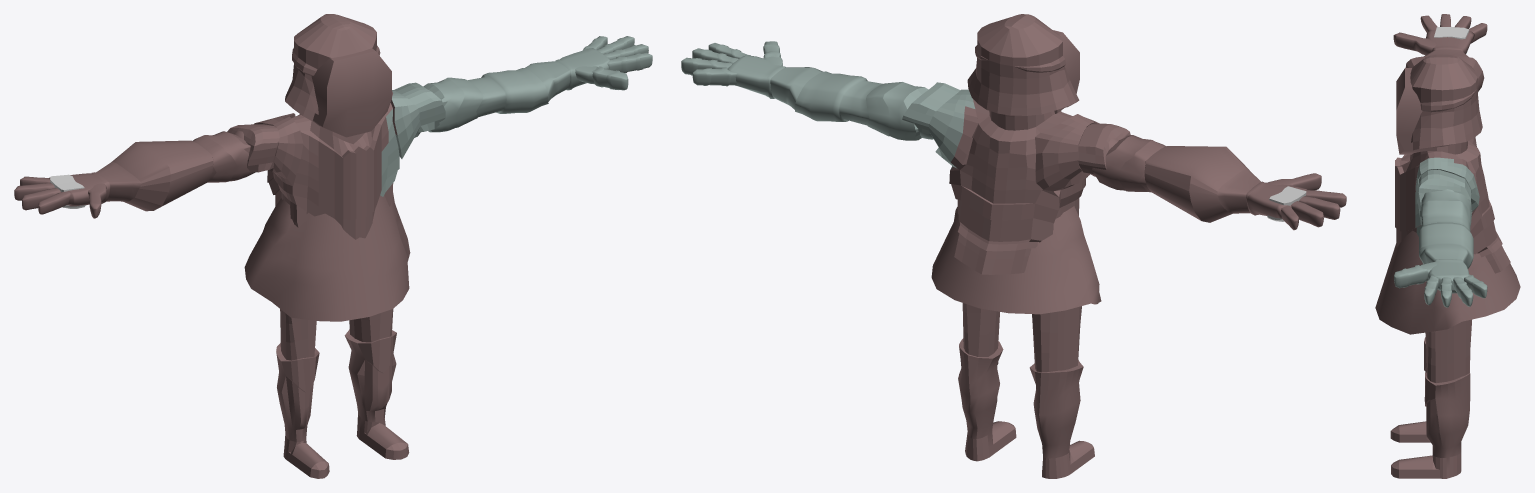
Rendered from Player_Model.fbx.
3 views of the same model, side by side, from view 1: azimuth 30°, elevation 25°; view 2: azimuth 150°, elevation 25°; view 3: azimuth 270°, elevation 25° (orthographic). The views are drawn at different scales.
Visible parts, largest first — view 1: polySurface101; view 2: polySurface101; view 3: polySurface101.
Boxes of the visible parts, x1,y1,x2,y2 form: polySurface101: [14, 14, 652, 478]; polySurface101: [681, 14, 1346, 478]; polySurface101: [1375, 14, 1520, 478].
Bounding box in the file's own units: 27.25 × 17.84 × 5.89.
